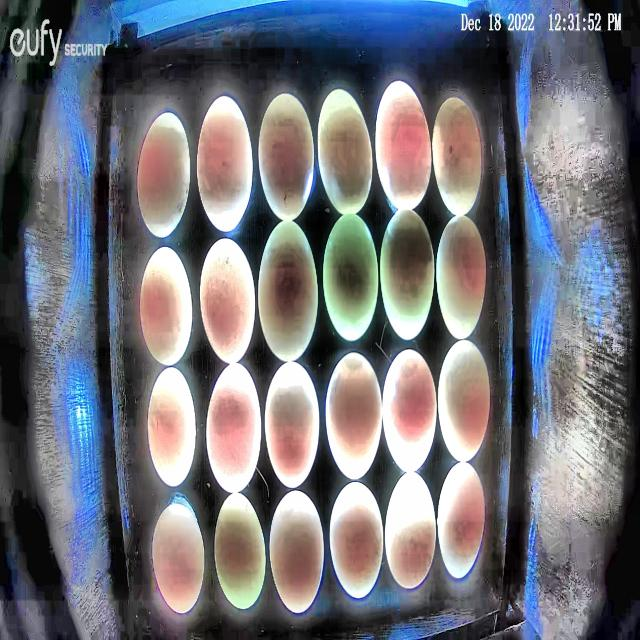UF: (257, 216, 320, 363), (196, 94, 254, 234), (324, 350, 384, 482), (379, 206, 436, 342), (375, 80, 433, 212), (206, 361, 263, 493), (199, 235, 257, 364), (258, 91, 315, 222), (322, 212, 379, 342), (136, 109, 192, 240), (317, 88, 374, 216), (264, 360, 320, 489), (267, 490, 325, 614), (382, 347, 438, 475), (437, 337, 491, 463), (328, 479, 384, 600), (435, 212, 487, 342), (213, 491, 267, 612), (140, 244, 193, 366), (384, 468, 437, 590), (432, 96, 482, 218), (148, 366, 198, 488), (152, 504, 206, 615), (437, 461, 485, 580)
